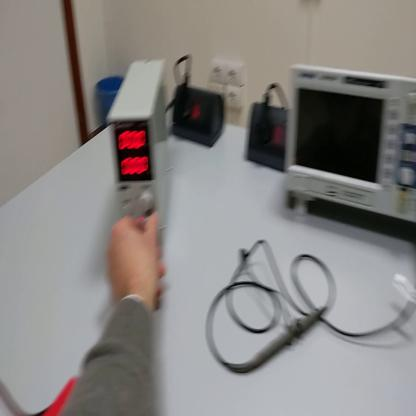hand: (109, 212, 166, 314)
oscilloscope: (288, 61, 416, 228)
oscilloscope probe tip: (235, 304, 331, 380)
power supply: (102, 62, 169, 247)
register: (36, 377, 79, 416)
socket: (169, 81, 227, 150), (245, 95, 290, 175)
